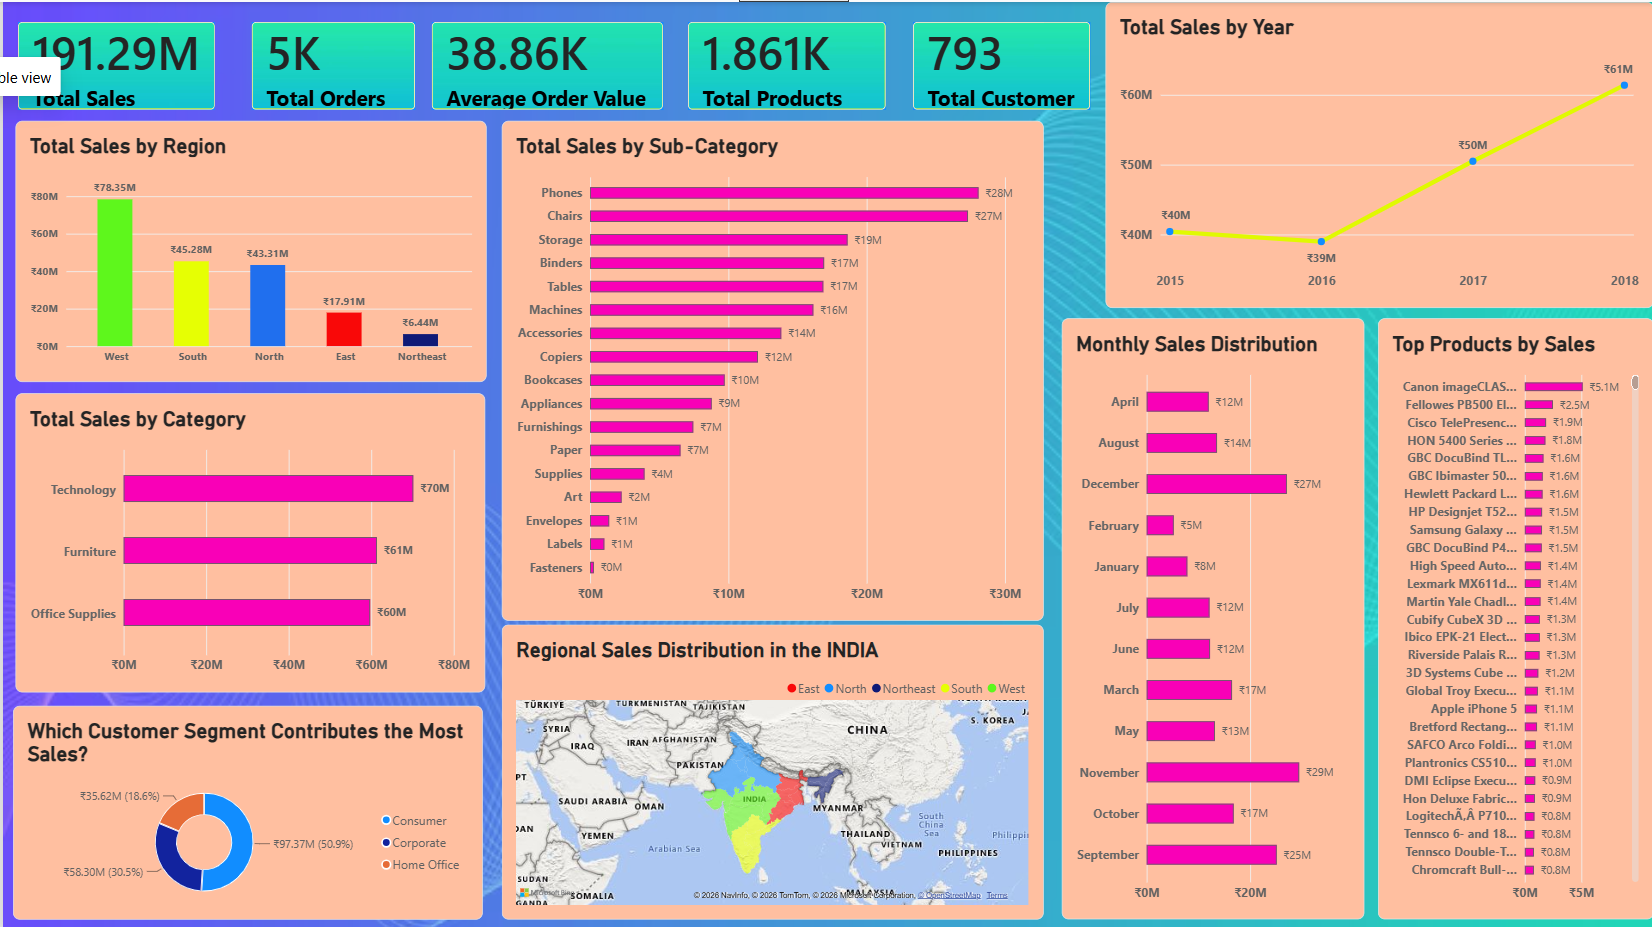

The dashboard page shown, as its layout file describes it:
{"tool":"powerbi","page":{"name":"Dashboard 3- Exploratory Data Analysis","canvas":[1920,1080],"ordinal":2},"visuals":[{"type":"cardVisual","fields":{"Data":["superstore_clean_data.Total Sales"]},"box":[17.6,22.9,229,102.2],"z":0},{"type":"cardVisual","fields":{"Data":["superstore_clean_data.Total Orders"]},"box":[288.9,22.9,190.3,102.2],"z":1},{"type":"cardVisual","fields":{"Data":["superstore_clean_data.Average Order Value"]},"box":[498.6,22.9,269.6,102.2],"z":2},{"type":"cardVisual","fields":{"Data":["Count(superstore_clean_data.Product ID)"]},"box":[796.3,22.9,230.8,102.2],"z":3},{"type":"cardVisual","fields":{"Data":["Count(superstore_clean_data.Customer ID)"]},"box":[1058.8,22.9,206.1,102.2],"z":4},{"type":"clusteredColumnChart","title":"Total Sales by Region","fields":{"Category":["superstore_clean_data.Region"],"Y":["Sum(superstore_clean_data.Sales)"]},"box":[14.1,137.4,548,304],"z":5},{"type":"clusteredBarChart","title":"Total Sales by Sub-Category","fields":{"Category":["superstore_clean_data.Sub-Category"],"Y":["Sum(superstore_clean_data.Sales)"]},"box":[579.6,137.4,630.7,581.4],"z":6},{"type":"lineChart","title":"Total Sales by Year","fields":{"Category":["superstore_clean_data.Order Year"],"Y":["Sum(superstore_clean_data.Sales)"]},"box":[1282.6,0,637.8,355.9],"z":7},{"type":"barChart","title":"Monthly Sales Distribution","fields":{"Category":["superstore_clean_data.Order_month_name"],"Y":["Sum(superstore_clean_data.Sales)"]},"box":[1231.5,368.2,352.4,699.4],"z":8},{"type":"clusteredBarChart","title":"Top Products by Sales","fields":{"Category":["superstore_clean_data.Product Name"],"Y":["Sum(superstore_clean_data.Sales)"]},"box":[1599.7,368.2,320.6,699.4],"z":9},{"type":"clusteredBarChart","title":"Total Sales by Category","fields":{"Category":["superstore_clean_data.Category"],"Y":["Sum(superstore_clean_data.Sales)"]},"box":[14.1,454.5,546,348],"z":10},{"type":"donutChart","title":"Which Customer Segment Contributes the Most Sales?","fields":{"Category":["superstore_clean_data.Segment"],"Y":["Sum(superstore_clean_data.Sales)"]},"box":[12.3,819.2,546.2,248.4],"z":11},{"type":"filledMap","title":"Regional Sales Distribution in the INDIA","fields":{"Category":["superstore_clean_data.State"],"Series":["superstore_clean_data.Region"]},"box":[579.6,724.1,630.7,343.6],"z":12}]}

Visuals, with their boxes in screenshot pixels (x1, y1, x2, y2), scaled from the page's 1920x1080 canvas onto the 1652x927 screenshot:
cardVisual - superstore_clean_data.Total Sales: <bbox>15, 20, 212, 107</bbox>
cardVisual - superstore_clean_data.Total Orders: <bbox>249, 20, 412, 107</bbox>
cardVisual - superstore_clean_data.Average Order Value: <bbox>429, 20, 661, 107</bbox>
cardVisual - Count(superstore_clean_data.Product ID): <bbox>685, 20, 884, 107</bbox>
cardVisual - Count(superstore_clean_data.Customer ID): <bbox>911, 20, 1088, 107</bbox>
"Total Sales by Region" clusteredColumnChart: <bbox>12, 118, 484, 379</bbox>
"Total Sales by Sub-Category" clusteredBarChart: <bbox>499, 118, 1041, 617</bbox>
"Total Sales by Year" lineChart: <bbox>1104, 0, 1651, 305</bbox>
"Monthly Sales Distribution" barChart: <bbox>1060, 316, 1363, 916</bbox>
"Top Products by Sales" clusteredBarChart: <bbox>1376, 316, 1651, 916</bbox>
"Total Sales by Category" clusteredBarChart: <bbox>12, 390, 482, 689</bbox>
"Which Customer Segment Contributes the Most Sales?" donutChart: <bbox>11, 703, 481, 916</bbox>
"Regional Sales Distribution in the INDIA" filledMap: <bbox>499, 622, 1041, 916</bbox>
